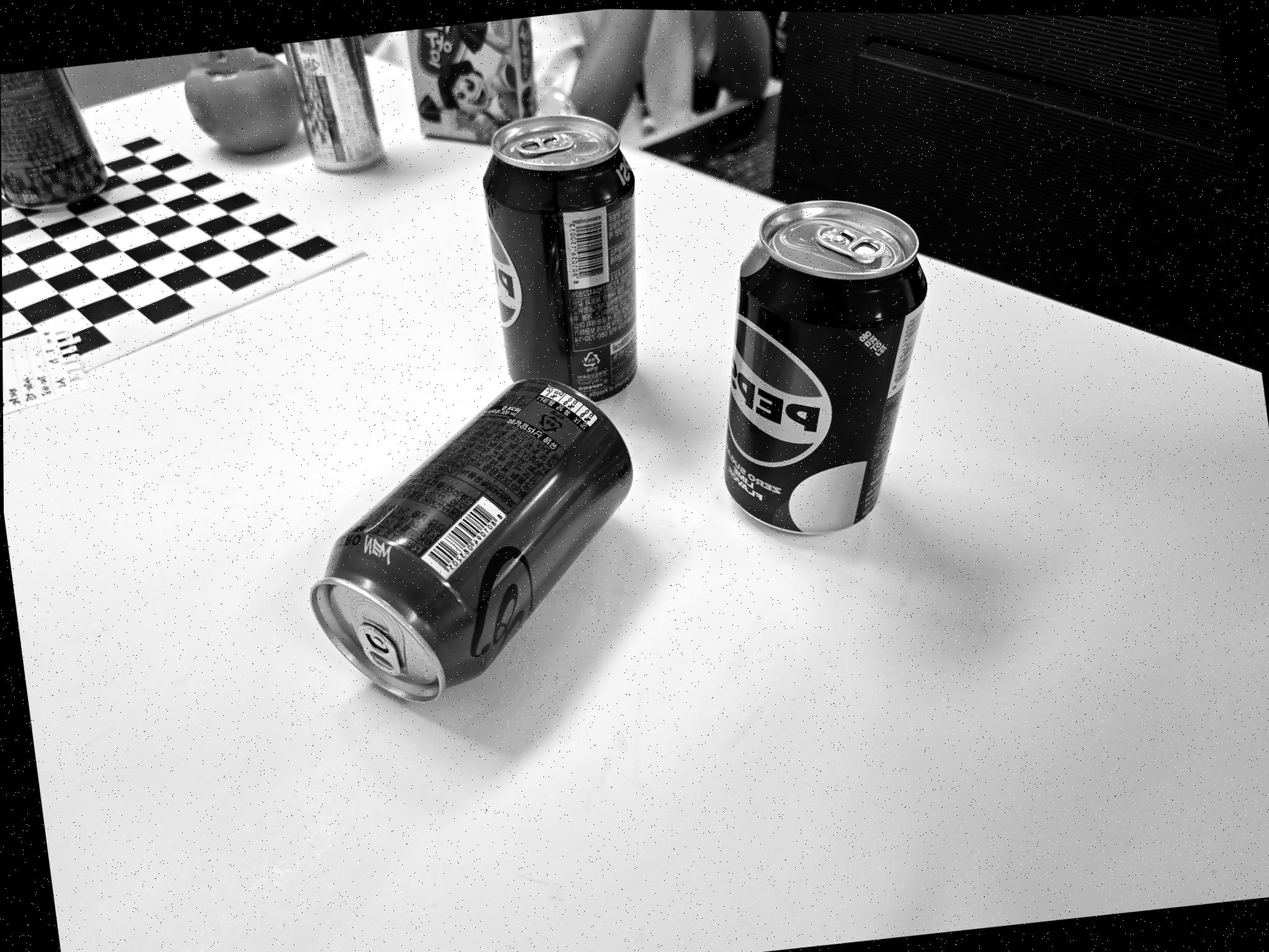can_coke_zero: (311, 378, 633, 702)
can_pepsi: (484, 116, 637, 400)
can_pepsi_zero: (725, 202, 926, 533), (725, 201, 926, 532)
